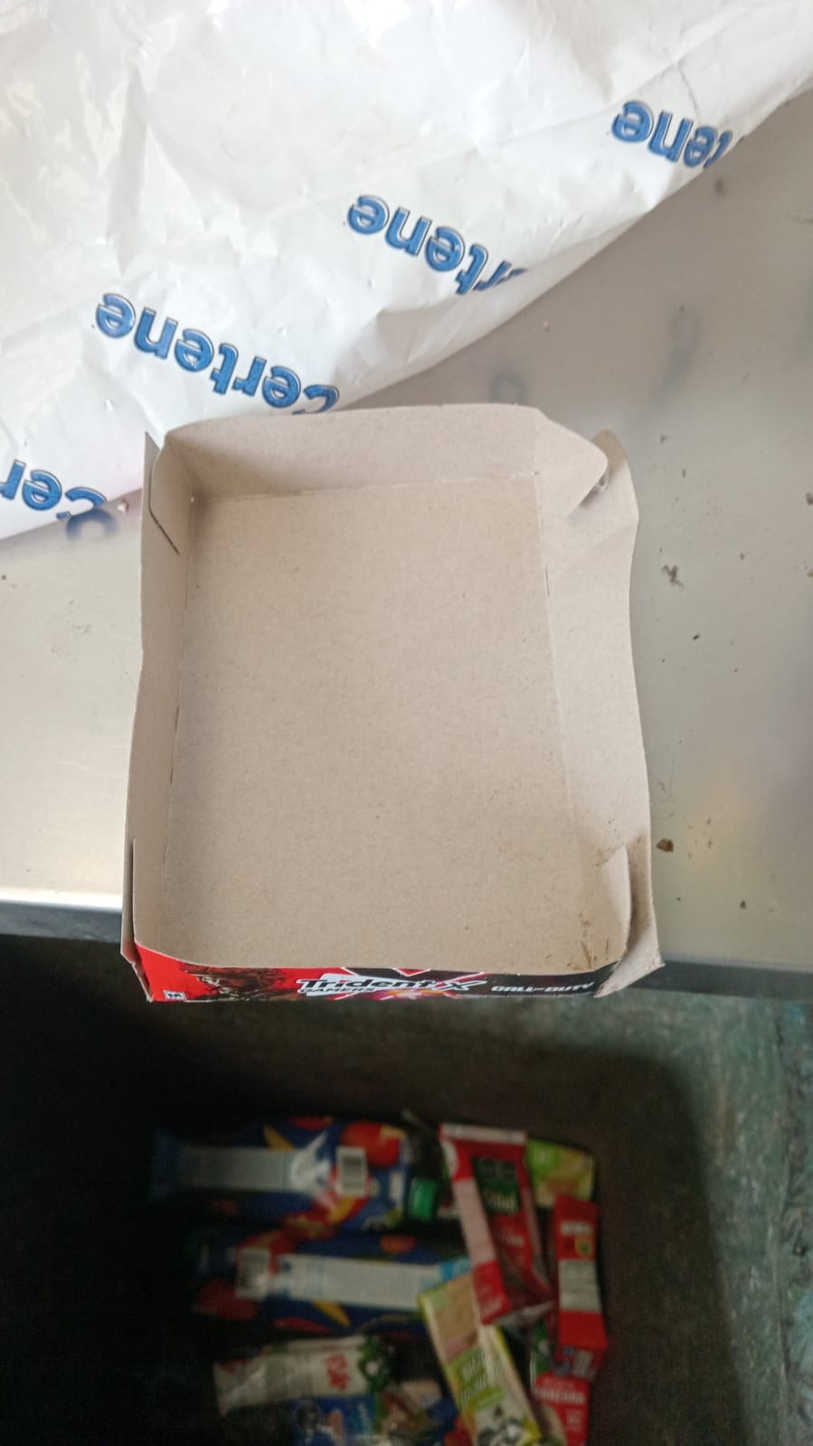Carton: (125, 405, 664, 1010)
